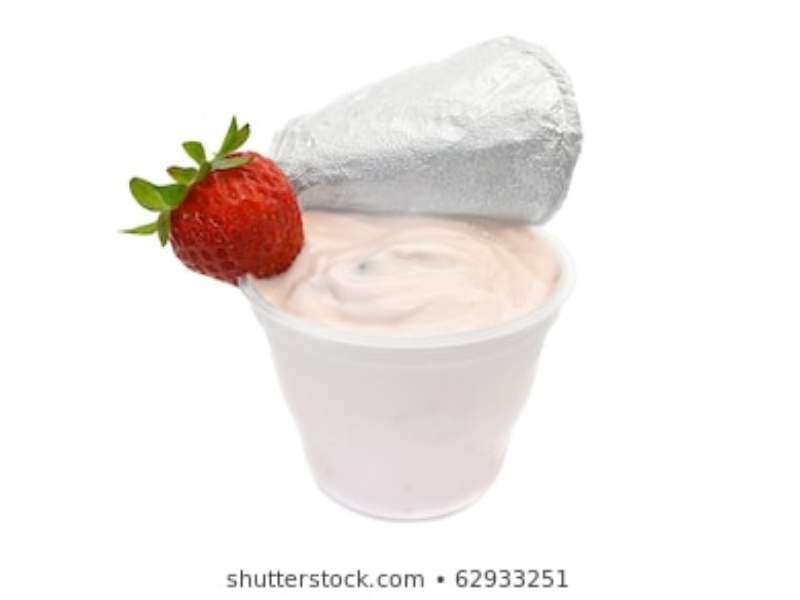yogurt-cup: (231, 197, 576, 525)
